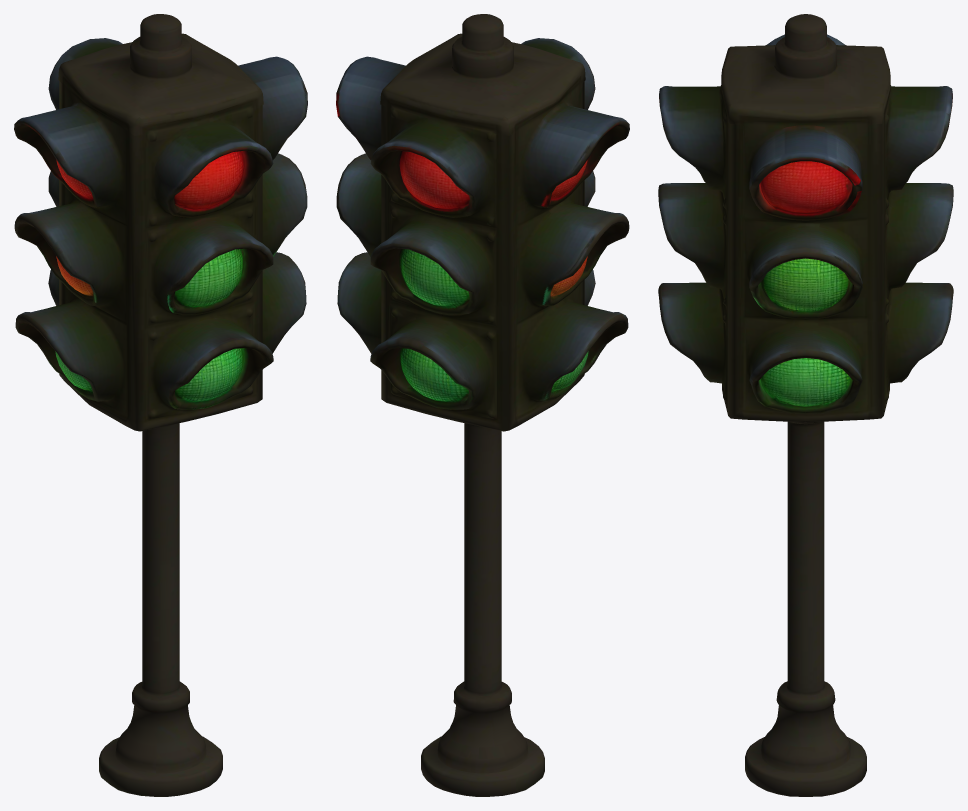
File: traffic_light_b1babccc_v2.glb
The picture shows the model from 3 angles, left to right: view 1: azimuth 30°, elevation 25°; view 2: azimuth 150°, elevation 25°; view 3: azimuth 270°, elevation 25°; orthographic projection.
Visible parts, largest first — view 1: material; view 2: material; view 3: material.
Part boxes in pixels (left/top/right/bottom): material: left=14, top=14, right=307, bottom=796; material: left=336, top=14, right=629, bottom=796; material: left=658, top=14, right=953, bottom=796.
Bounding box in the file's own units: 0.6893 × 1.9 × 0.6776.
Materials: 1 (1 with a texture image).
